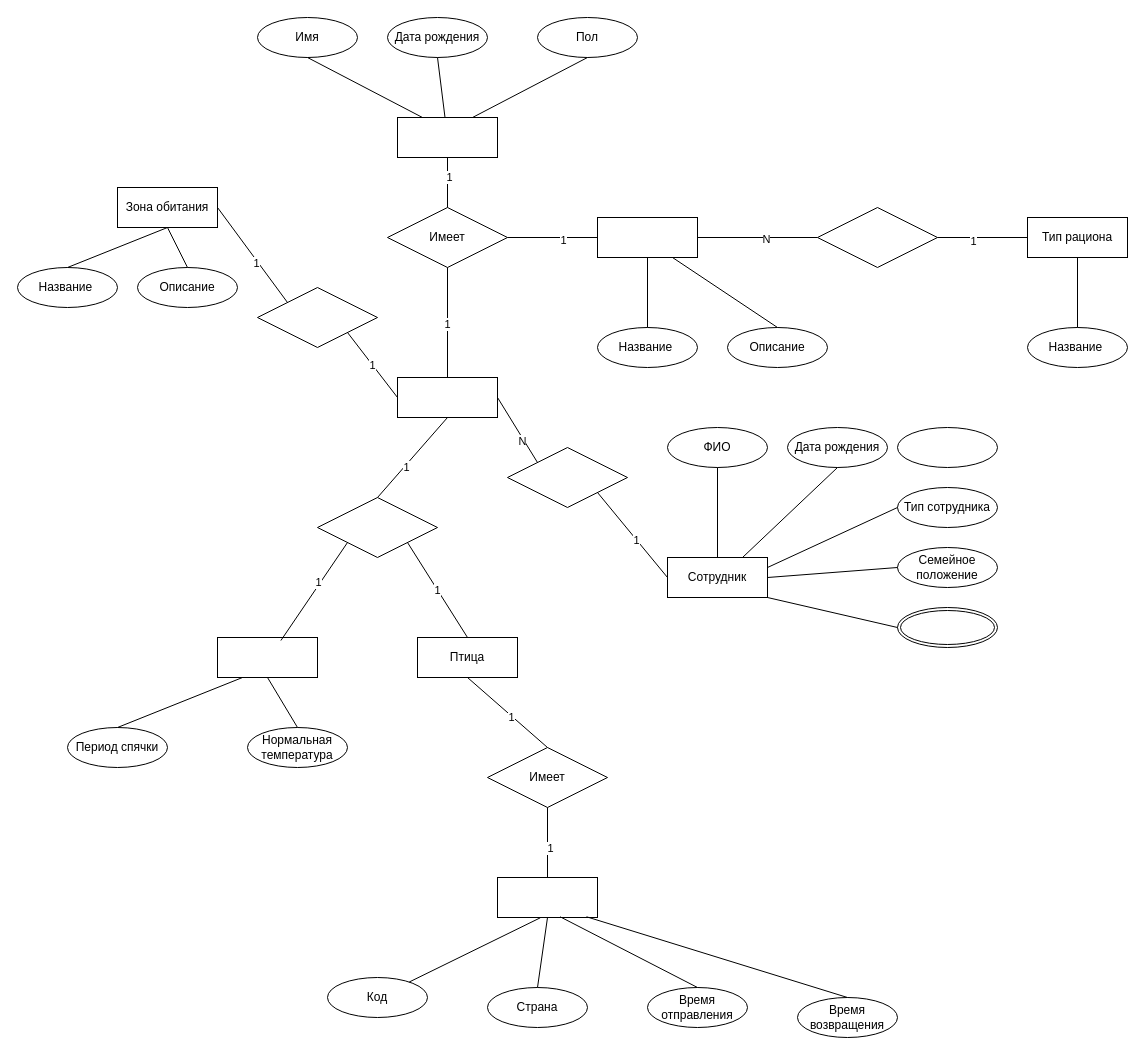
Some shapes in this 1145 by 1055 pixel diagram are drawn without their labels. Each missing label, with the centre of its shape:
"Включает" belongs at [877,237].
"Место зимования" belongs at [547,897].
"Номер телефона" belongs at [947,447].
"Обитает" belongs at [317,317].
"Основная информация" belongs at [447,137].
"Пара" belongs at [947,627].
"Питомец" belongs at [447,397].
"Рацион питания" belongs at [647,237].
"Рептилия" belongs at [267,657].
"Следит" belongs at [567,477].
"Является" belongs at [377,527].
